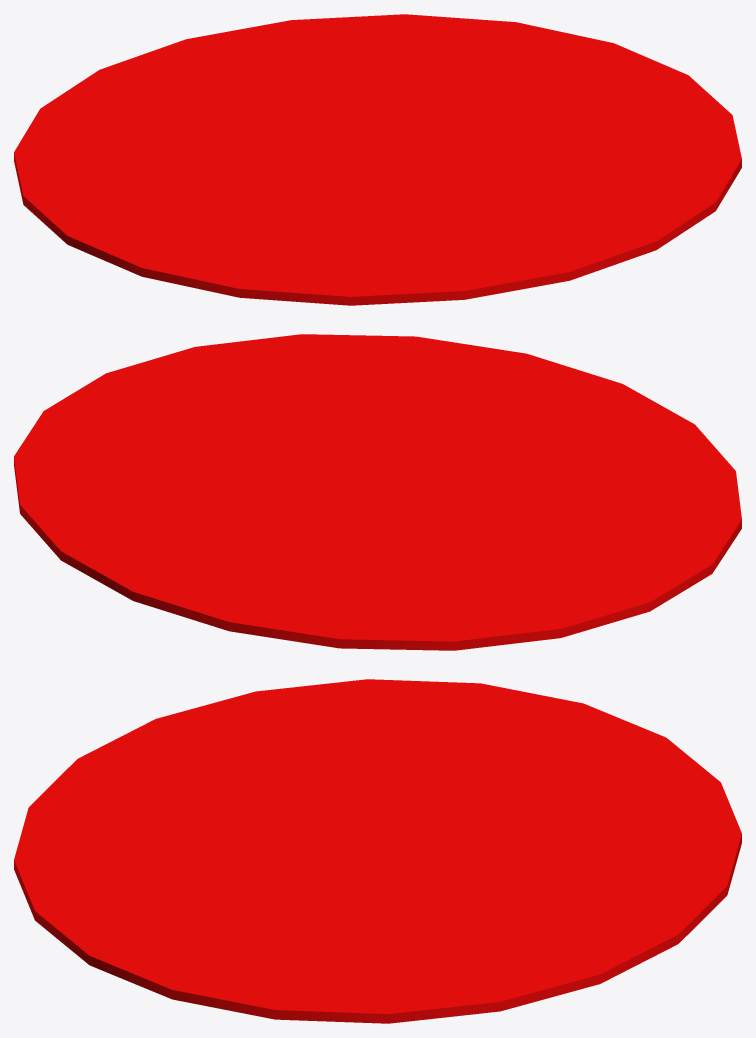
Rendered from WitchShop_Carpet.fbx.
The picture shows the model from 3 angles, top to bottom: view 1: azimuth 30°, elevation 25°; view 2: azimuth 150°, elevation 25°; view 3: azimuth 270°, elevation 25°; orthographic projection. The views are drawn at different scales.
Parts seen in each view (by area): view 1: Carpet; view 2: Carpet; view 3: Carpet.
Part boxes in pixels (x1,y1,x2,y2): Carpet: (14, 14, 741, 305); Carpet: (14, 334, 741, 650); Carpet: (14, 679, 741, 1023).
Size of the model in its own units: 258 by 3.45 by 237.
